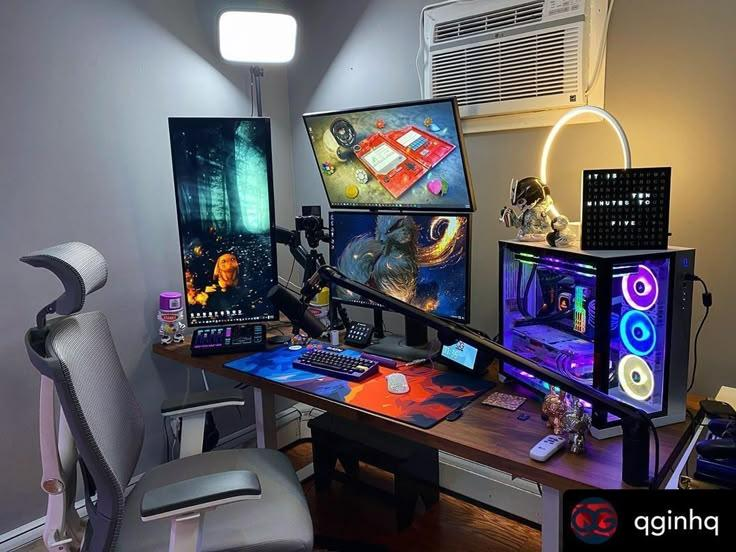camera: (292, 212, 326, 233)
keyboard: (286, 344, 384, 387)
mic: (261, 282, 329, 342)
monitor: (163, 112, 287, 328), (296, 92, 486, 217), (321, 203, 476, 334)
mouse: (381, 367, 415, 398)
pc: (495, 225, 701, 442)
